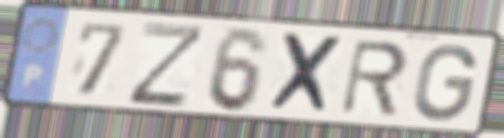6: (204, 24, 272, 115)
7: (74, 20, 130, 99)
G: (410, 42, 480, 124)
R: (337, 38, 411, 118)
X: (266, 30, 346, 117)
Z: (125, 20, 210, 109)
